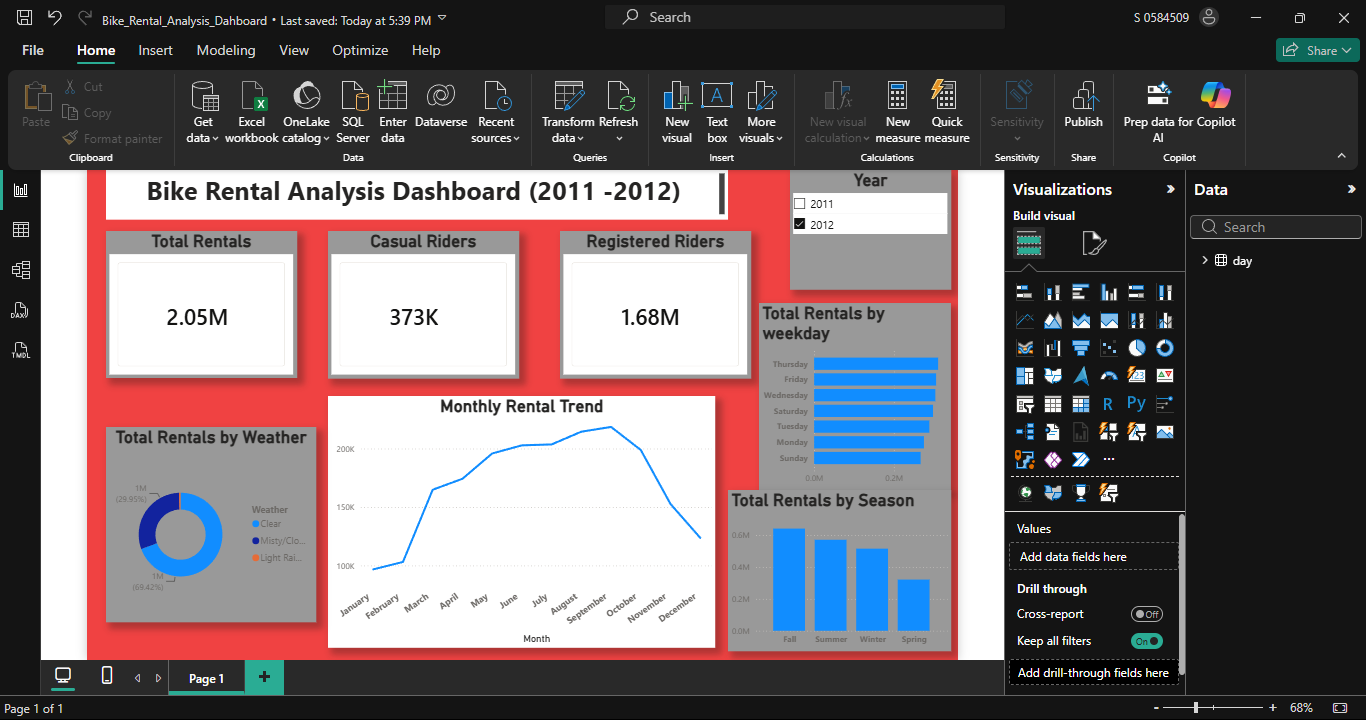

The page's visual inventory and layout, read from the dashboard file:
{"tool":"powerbi","page":{"name":"Page 1","canvas":[1280,720],"ordinal":0},"visuals":[{"type":"cardVisual","title":"Total Rentals","fields":{"Data":["day.Total Rentals Display1"]},"box":[28.6,89,280.5,216],"z":0},{"type":"cardVisual","title":"Casual Riders","fields":{"Data":["Sum(day.Casual_Riders)"]},"box":[354.4,89,280.5,216.7],"z":1000},{"type":"cardVisual","title":"Registered Riders","fields":{"Data":["day.Registered Riders Display"]},"box":[695.4,89,280.5,216.7],"z":2000},{"type":"lineChart","title":"Monthly Rental Trend","fields":{"Category":["day.Date.Variation.Date Hierarchy.Month"],"Y":["Sum(day.Total_Rentals)"]},"box":[354.4,332.6,569.4,369.6],"z":3000},{"type":"donutChart","title":"Total Rentals by Weather","fields":{"Category":["day.Weather"],"Y":["Sum(day.Total_Rentals)"]},"box":[28.6,378,309.1,287.2],"z":4000},{"type":"clusteredBarChart","title":"Total Rentals by weekday","fields":{"Category":["day.weekday"],"Y":["Sum(day.Total_Rentals)"]},"box":[987.7,194.9,282.2,275.5],"z":5000},{"type":"clusteredColumnChart","title":"Total Rentals by Season","fields":{"Category":["day.season"],"Y":["Sum(day.Total_Rentals)"]},"box":[942.4,470.3,327.6,236.9],"z":6000},{"type":"listSlicer","fields":{"Values":["day.Year"]},"box":[1033.1,0,236.9,176.4],"z":7000},{"type":"textbox","box":[27.9,0,914,73.5],"z":8000}]}

Visuals, with their boxes on the page's 1280x720 design canvas (x1, y1, x2, y2). These are canvas units, not pixel positions in the 1366x720 screenshot, which may show the page scaled, cropped or inside an application window:
"Total Rentals" cardVisual: x1=29 y1=89 x2=309 y2=305
"Casual Riders" cardVisual: x1=354 y1=89 x2=635 y2=306
"Registered Riders" cardVisual: x1=695 y1=89 x2=976 y2=306
"Monthly Rental Trend" lineChart: x1=354 y1=333 x2=924 y2=702
"Total Rentals by Weather" donutChart: x1=29 y1=378 x2=338 y2=665
"Total Rentals by weekday" clusteredBarChart: x1=988 y1=195 x2=1270 y2=470
"Total Rentals by Season" clusteredColumnChart: x1=942 y1=470 x2=1270 y2=707
listSlicer - day.Year: x1=1033 y1=0 x2=1270 y2=176
textbox: x1=28 y1=0 x2=942 y2=74
